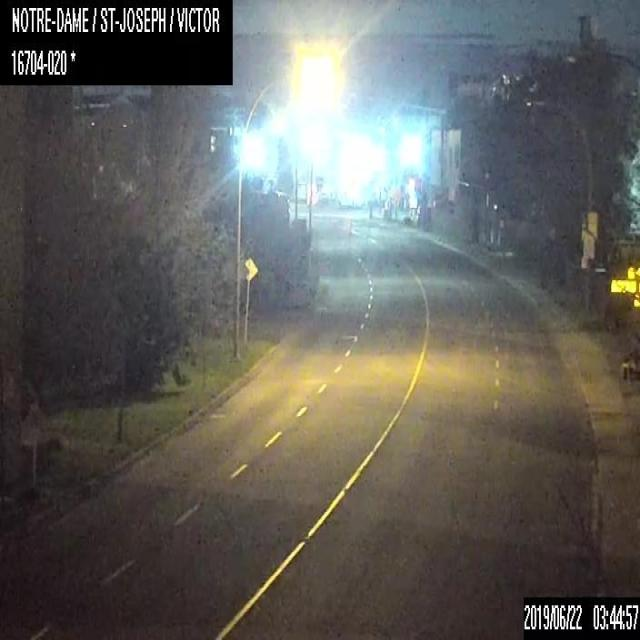construction: (610, 228, 639, 386)
